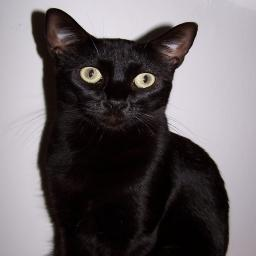catnose: (104, 96, 130, 113)
